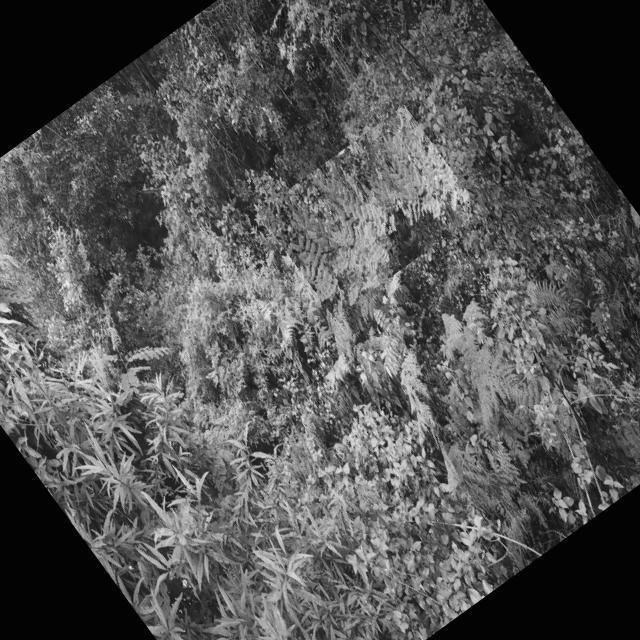Mysore-Thorn-Weed: (257, 104, 481, 317)
